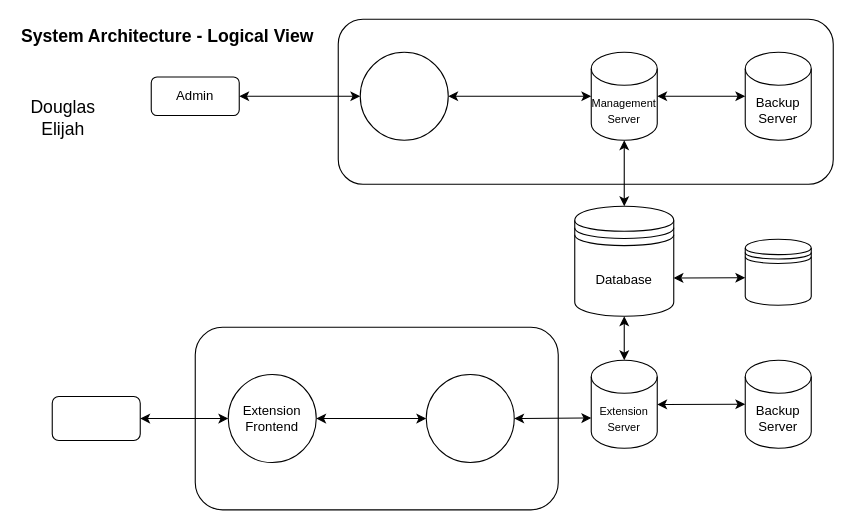
This 853x529 diagram has some shape labels left out. The shapes that lost their labels are listed below. From the top down, each one's box as (x1, y1, x2, y2) in pixels, then its label:
(359, 51, 448, 140): Website
(744, 238, 811, 305): Backup Database
(51, 395, 140, 441): User
(425, 373, 514, 463): Extension Backend
